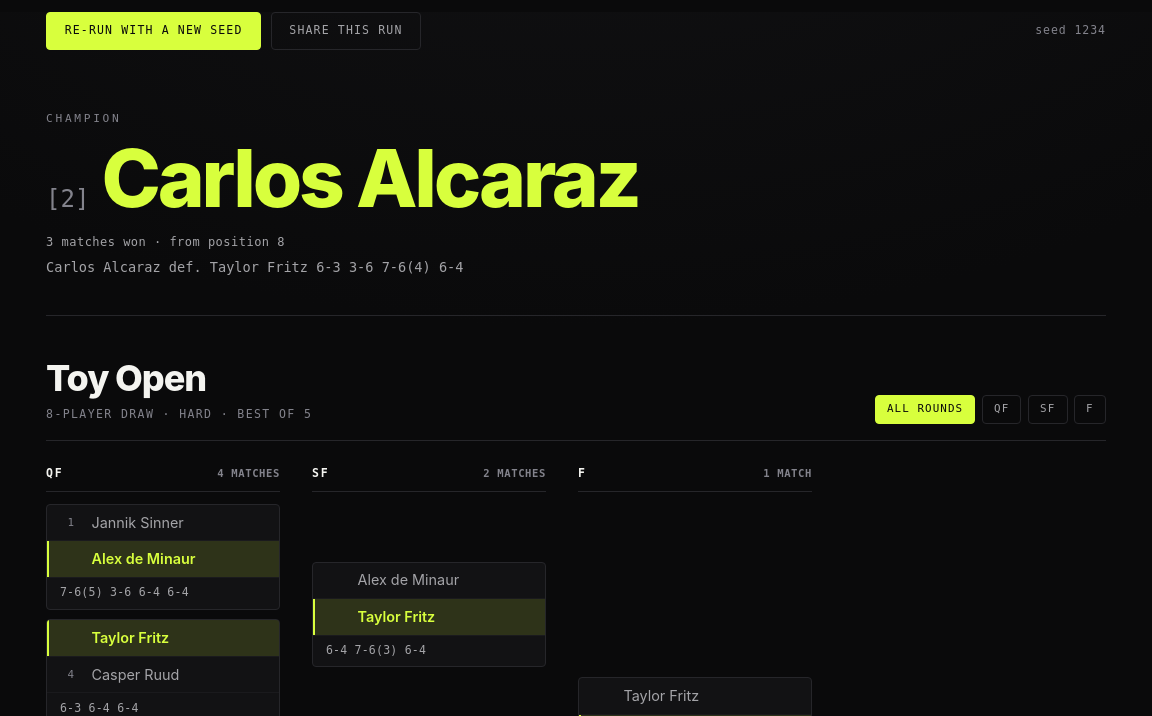
Test: share › shows the link to copy by hand when the clipboard refuses
Expected: the element "Champion" is shown, [46, 78, 1106, 316]
Click the button "Share this run".
click(346, 31)  # box [271, 12, 421, 50]
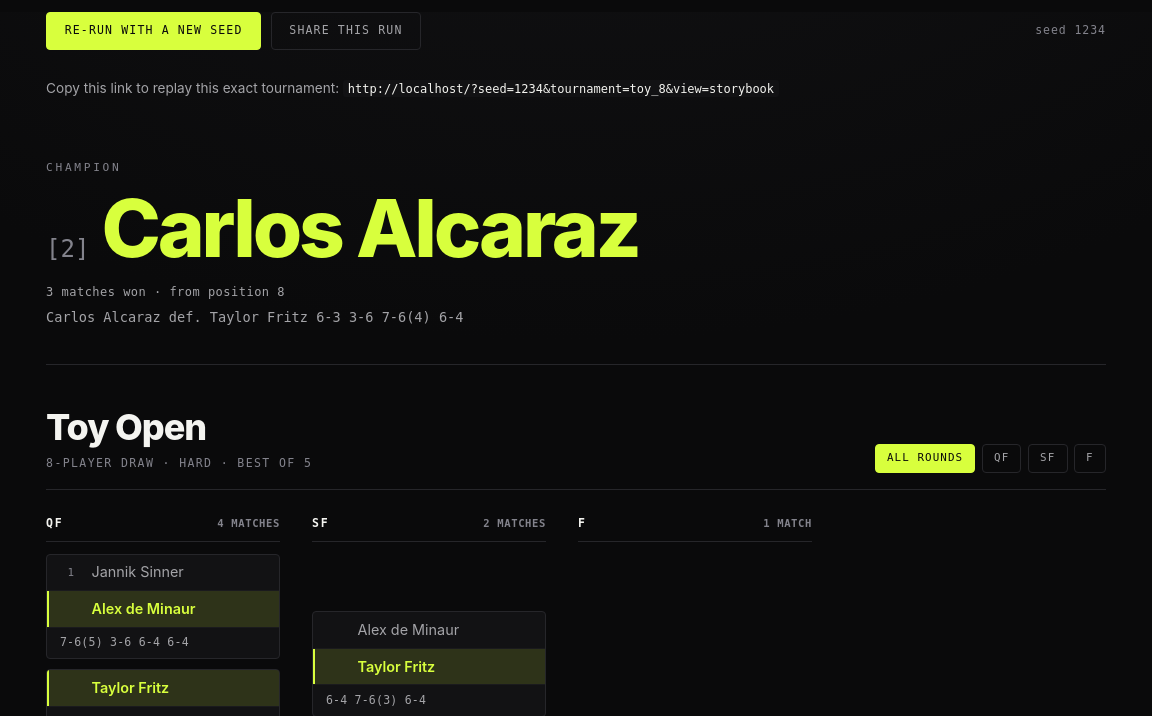
Expected: the text "Copy this link" shows "seed=1234", [348, 82, 774, 96]
